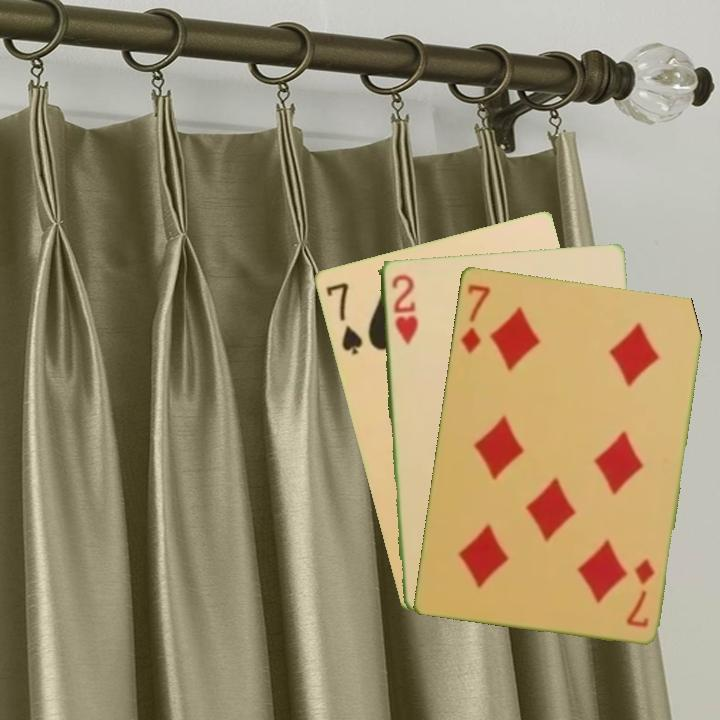2h: (387, 270, 420, 348)
7d: (457, 280, 493, 356), (623, 555, 657, 630)
7s: (322, 278, 365, 358)
